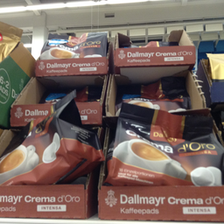coffee: (105, 101, 223, 188), (1, 90, 104, 186), (41, 29, 106, 57)
